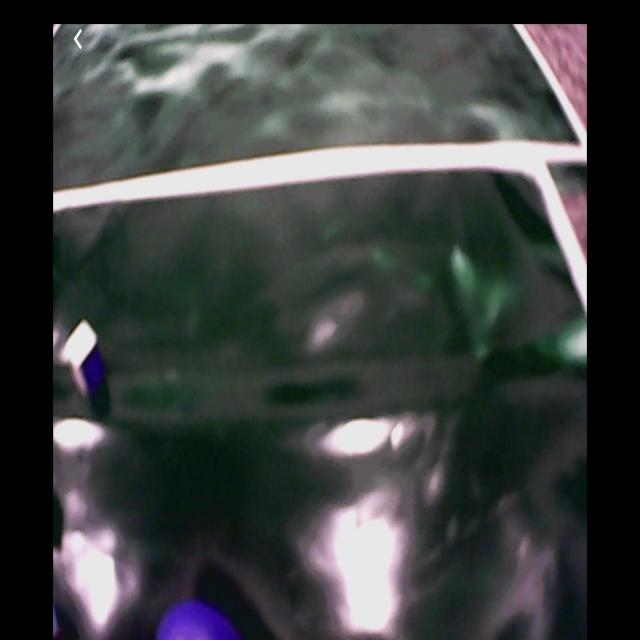ball: (160, 604, 238, 640)
